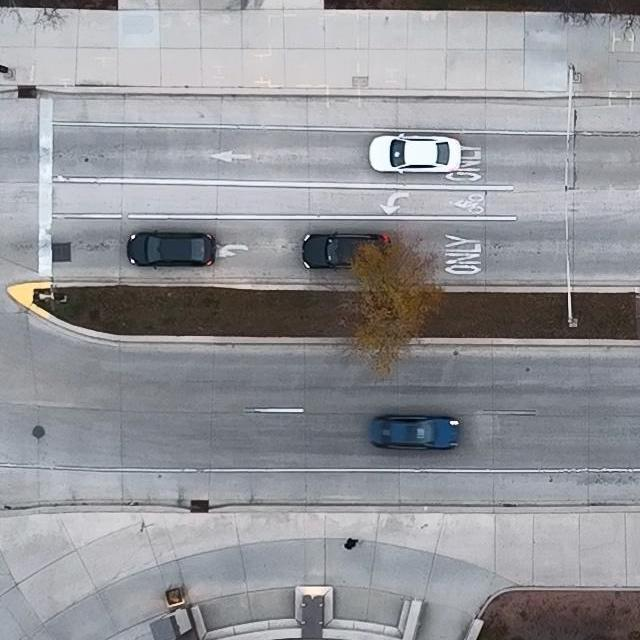car: (368, 132, 462, 176), (127, 230, 217, 269), (302, 232, 389, 271), (370, 414, 460, 451)
